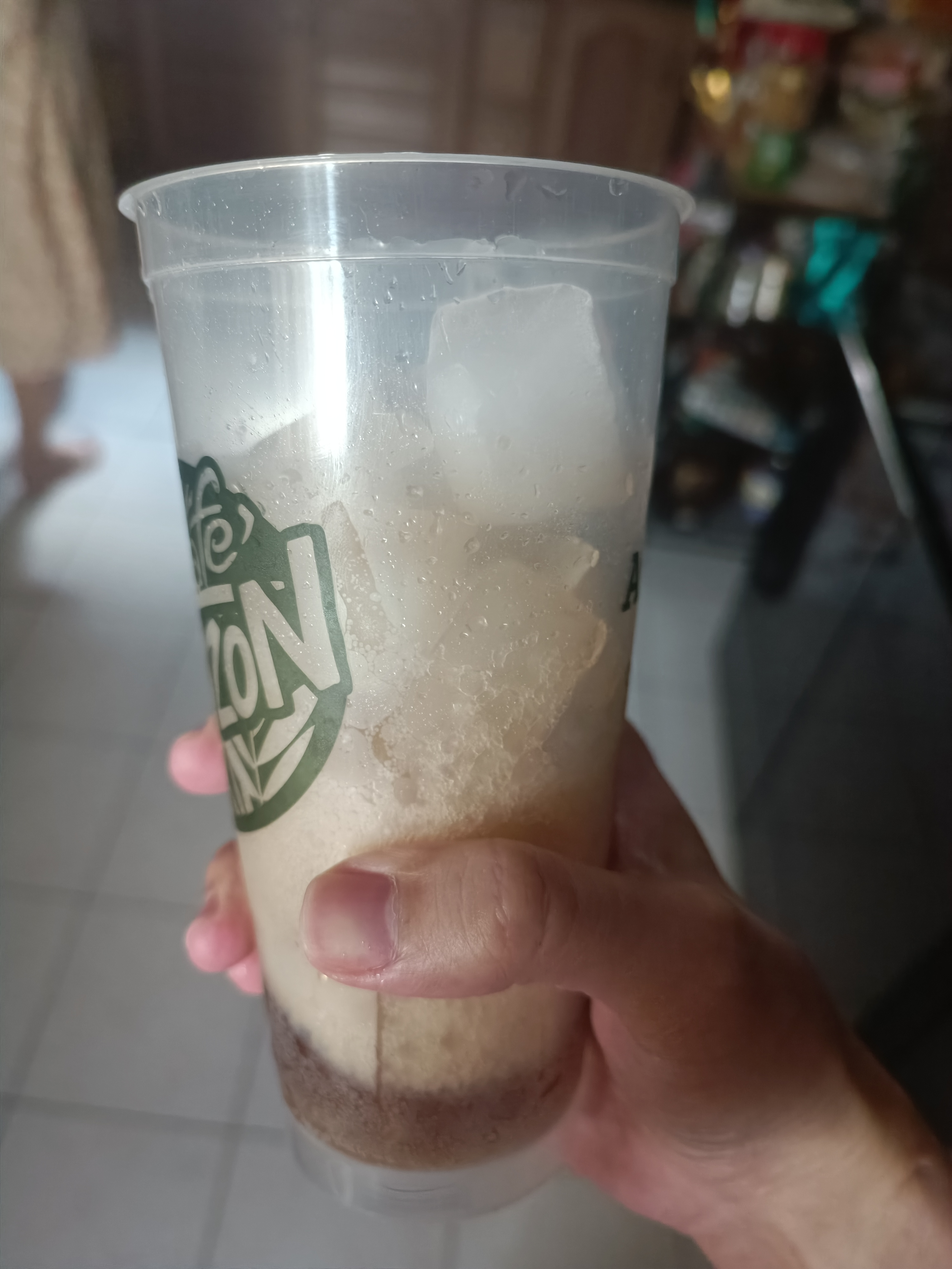plastic: (98, 141, 738, 1227)
